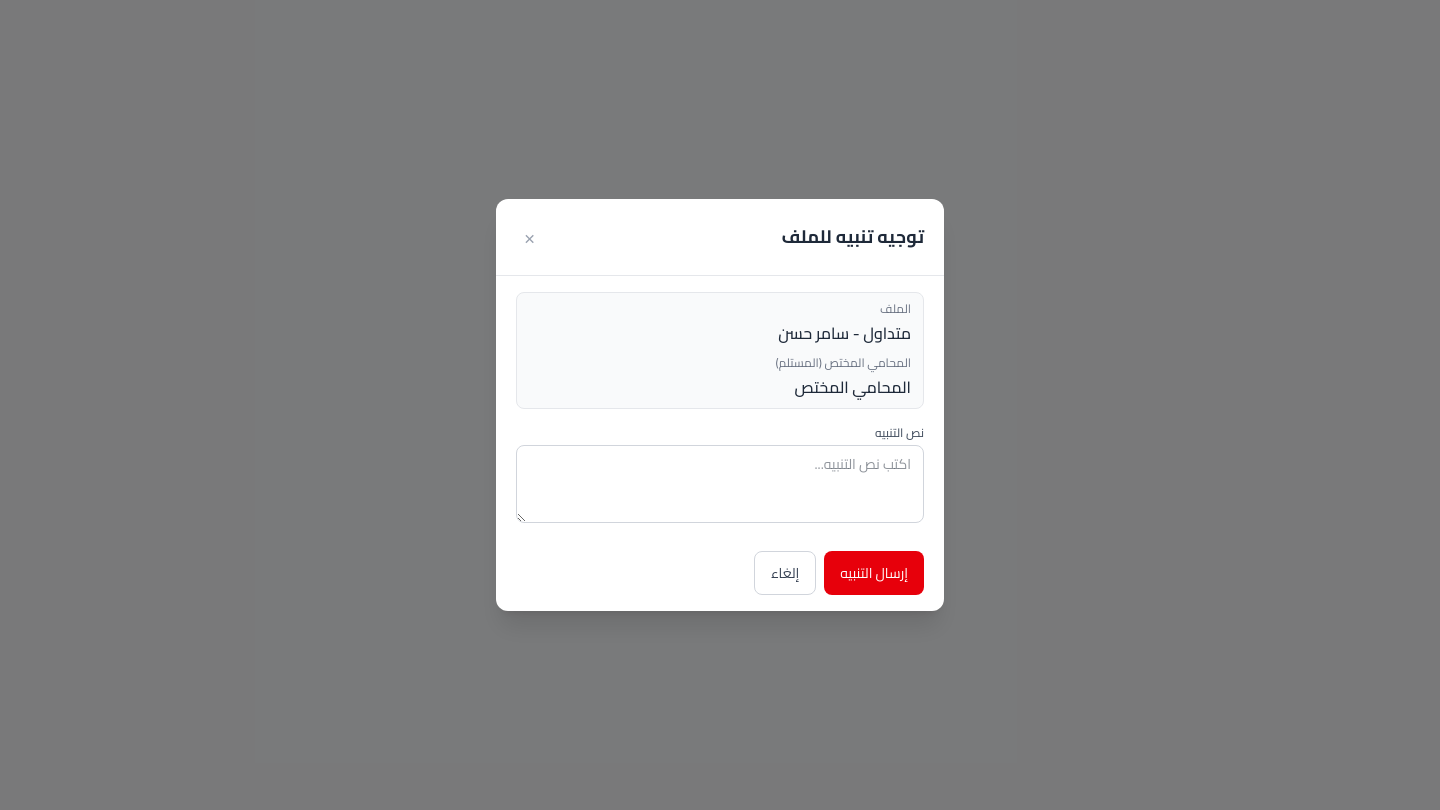
Test: FileAlertModal › يعرض عنوان الملف والمستلم ويطلب نص التنبيه قبل الإرسال
Expected: the text "متداول - سامر حسن" is shown, [778,318,911,348]
Expected: the text "المحامي المختص" is shown, [795,372,911,402]
Click the button "إرسال التنبيه": {"x": 874, "y": 573} [824,551,924,595]
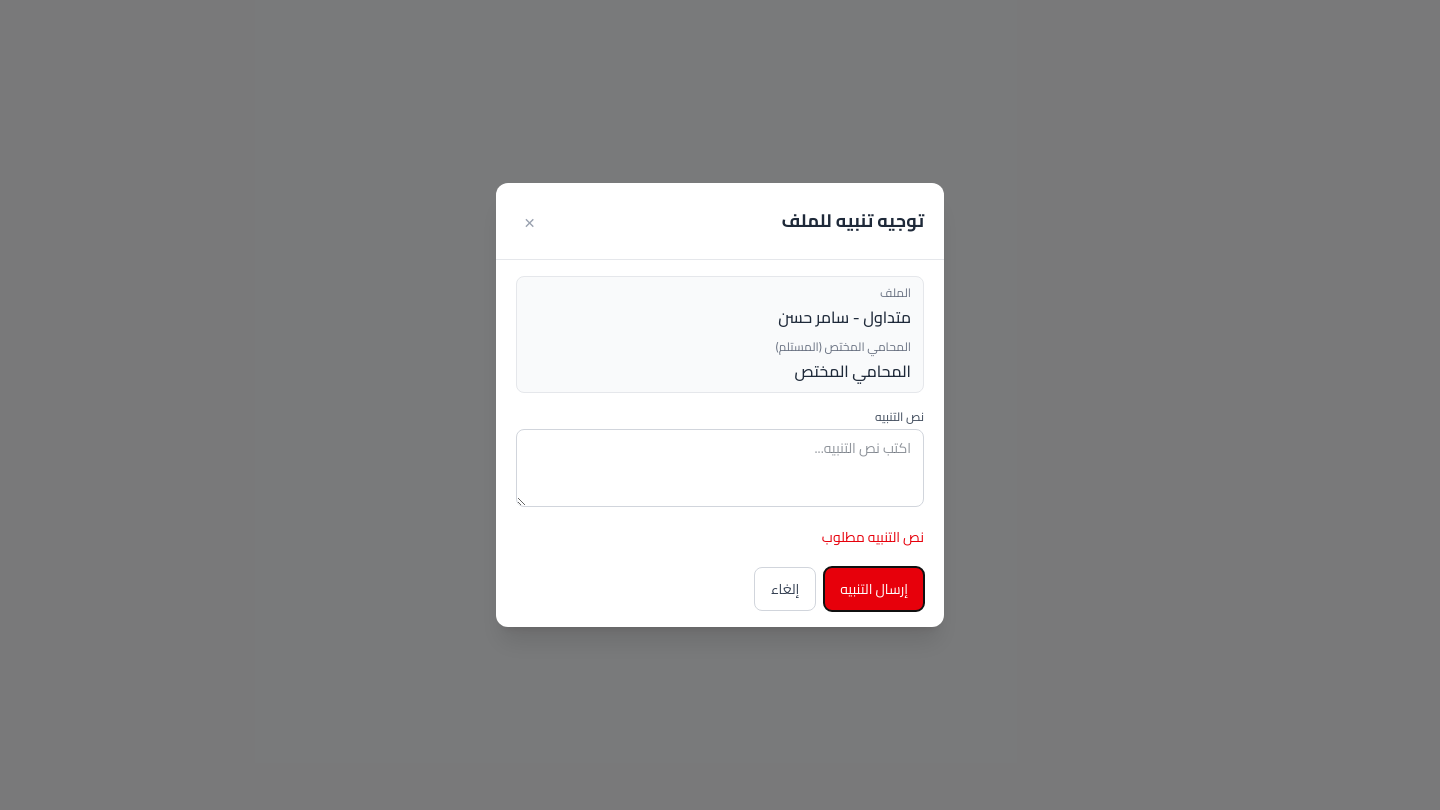
Result: the text "نص التنبيه مطلوب" is shown at [822,524,924,550]
